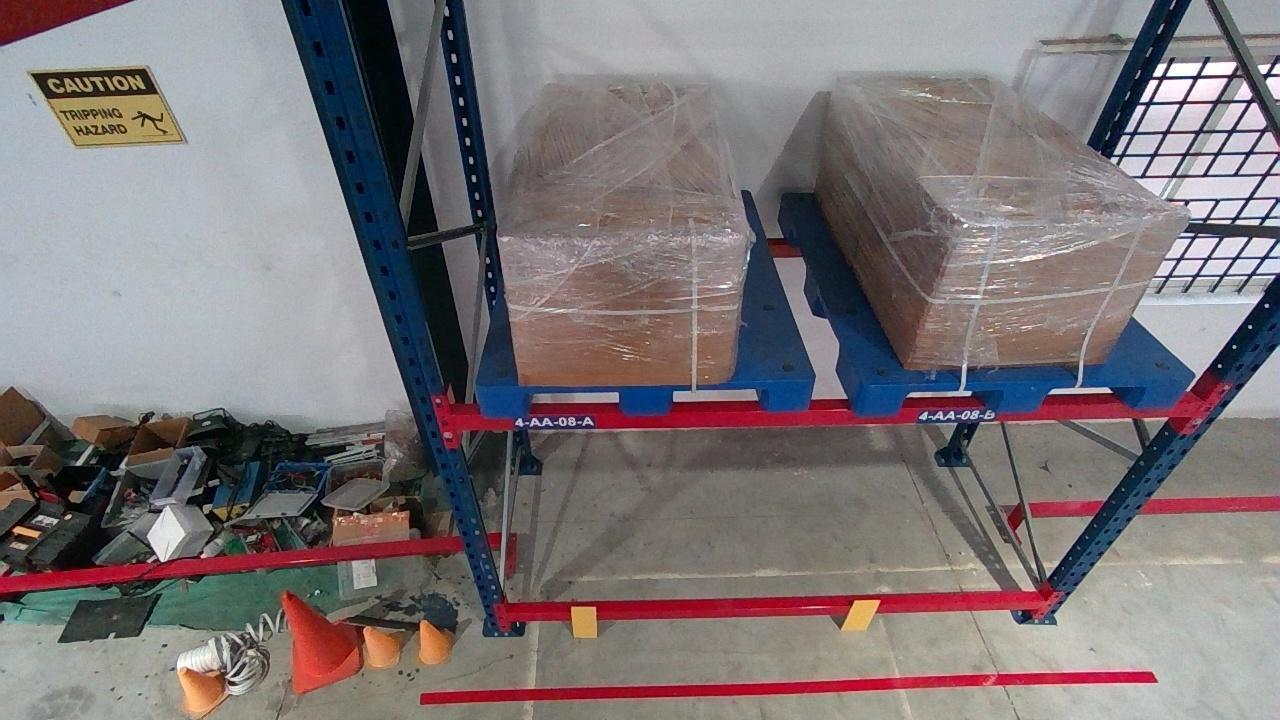red_line: (422, 671, 1163, 708)
